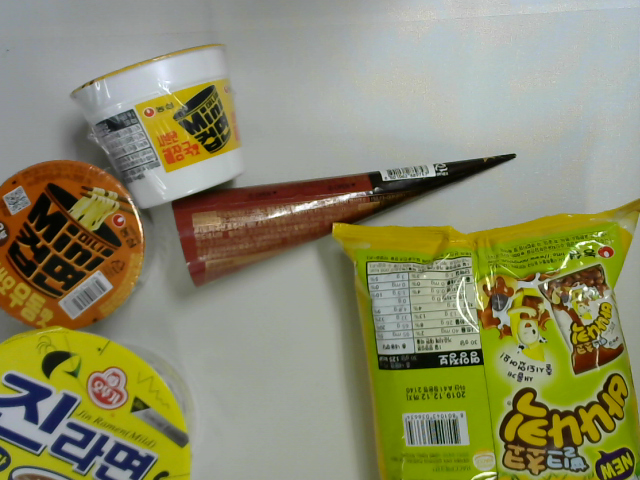Banana_Kick: (328, 193, 640, 477)
Hejangmini: (65, 41, 247, 215)
Jinlamyeon_Mild_Taste_Large_Cup: (1, 327, 209, 479)
Udongmini: (1, 152, 160, 338)
World_Cone_Choco: (167, 140, 531, 291)
